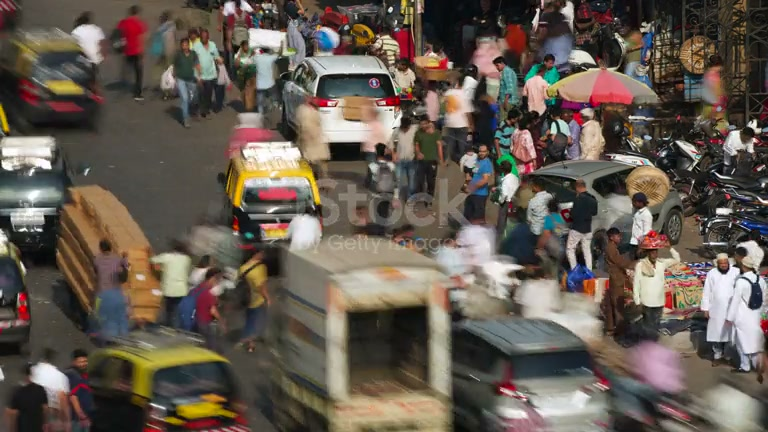car: (450, 315, 615, 430), (86, 322, 250, 430), (54, 183, 163, 333), (528, 159, 685, 245), (223, 141, 324, 274), (278, 54, 403, 160), (0, 26, 105, 131), (0, 135, 74, 255), (0, 231, 33, 354)
motorcycle: (1, 26, 105, 131)
pedestrian: (725, 246, 767, 379), (700, 252, 740, 360), (150, 238, 195, 329), (234, 249, 273, 354), (93, 239, 131, 340), (601, 227, 635, 337), (633, 241, 668, 342), (563, 179, 598, 271), (71, 11, 108, 98), (115, 5, 149, 99), (192, 268, 229, 354), (461, 143, 495, 226), (191, 26, 222, 117), (172, 37, 202, 129), (7, 367, 49, 432), (63, 348, 95, 431)
